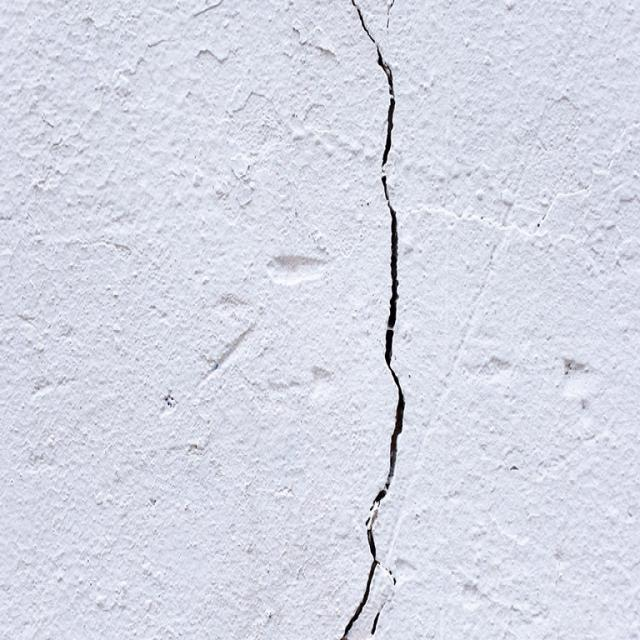leak: (342, 0, 409, 640), (161, 303, 274, 415)
